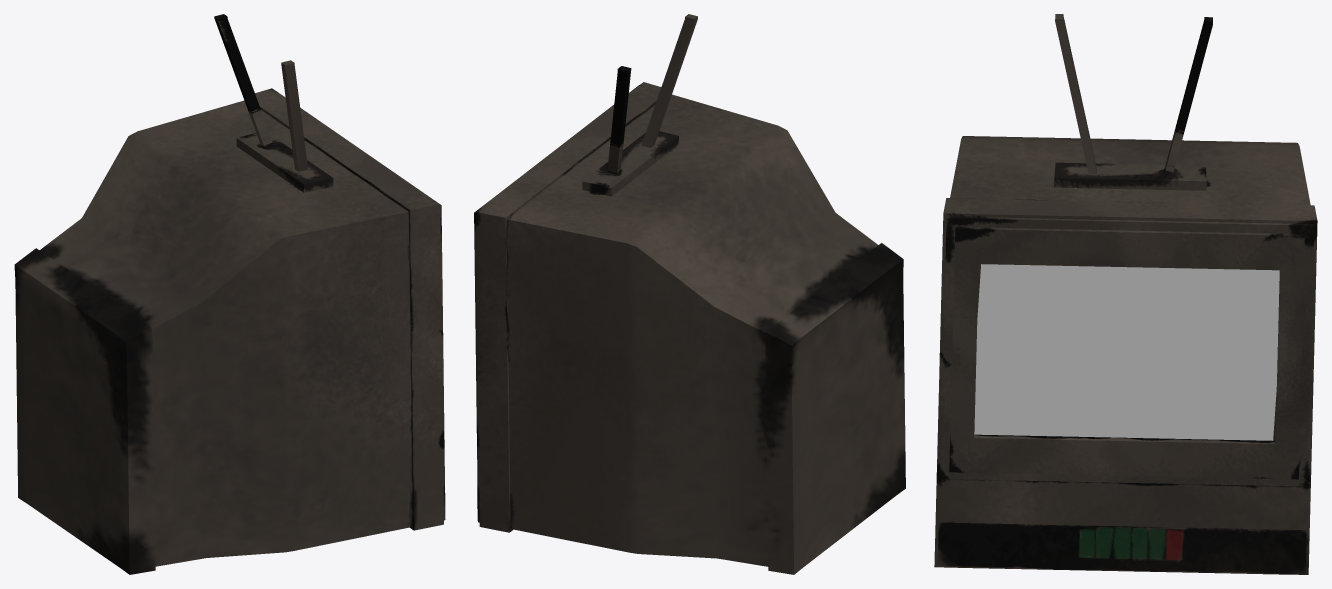
3 views of the same model, side by side, from view 1: azimuth 30°, elevation 25°; view 2: azimuth 150°, elevation 25°; view 3: azimuth 270°, elevation 25° (orthographic). The views are drawn at different scales.
Visible parts, largest first — view 1: TV-3; view 2: TV-3; view 3: TV-3, TV-3-Screen.
Boxes of the visible parts, x1,y1,x2,y2 form: TV-3: (14, 14, 445, 574); TV-3: (474, 14, 905, 574); TV-3: (934, 14, 1317, 574); TV-3-Screen: (974, 264, 1279, 440).
Size of the model in its own units: 9.98 by 14.79 by 10.13.
1 material, 1 textured.
